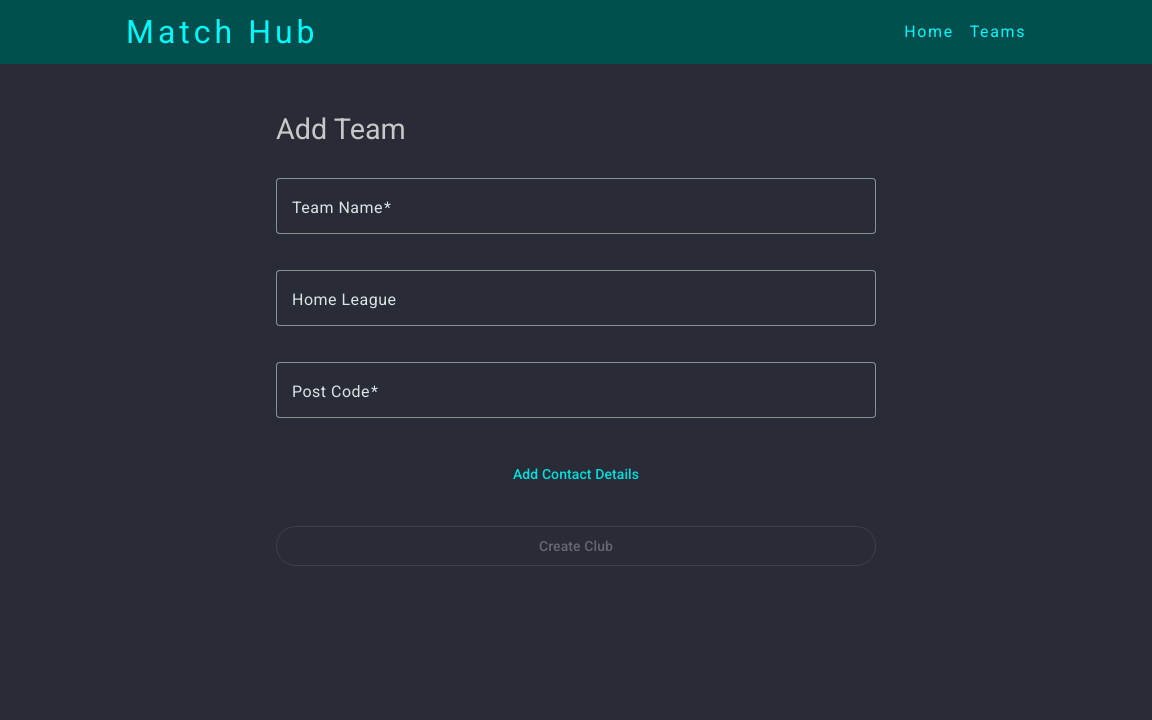
The form should validate as expected › should validate postcode missing correctly
Type "Binstead Reserves" into the element with class "data-input-name" at (576, 216), box [276,178,876,254]
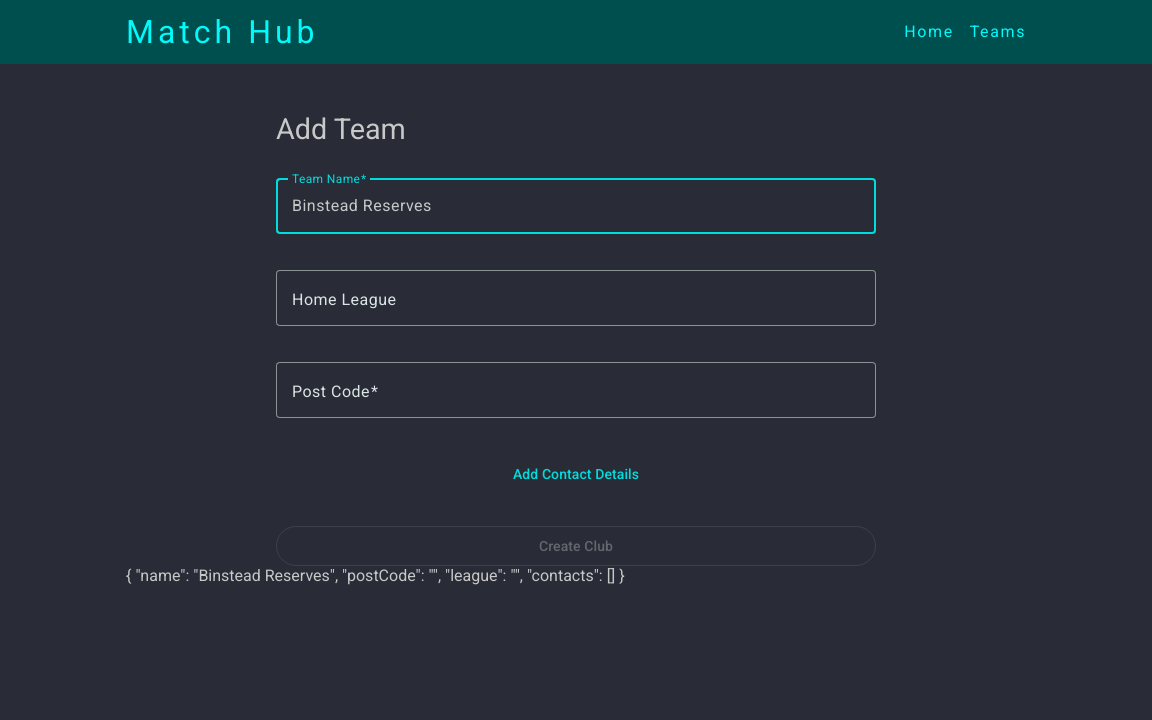
Focus the field labelled "Post Code" at (576, 390), box [292,378,860,402]
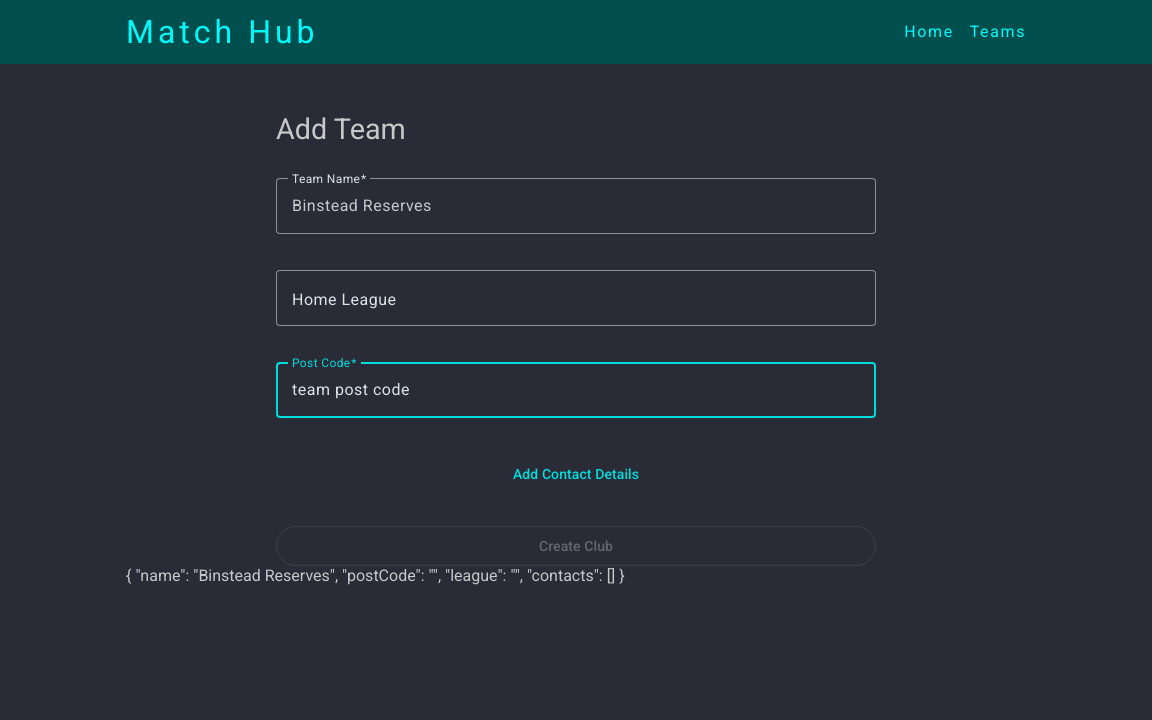
Focus the field labelled "Team Name" at (576, 206), box [292,194,860,218]
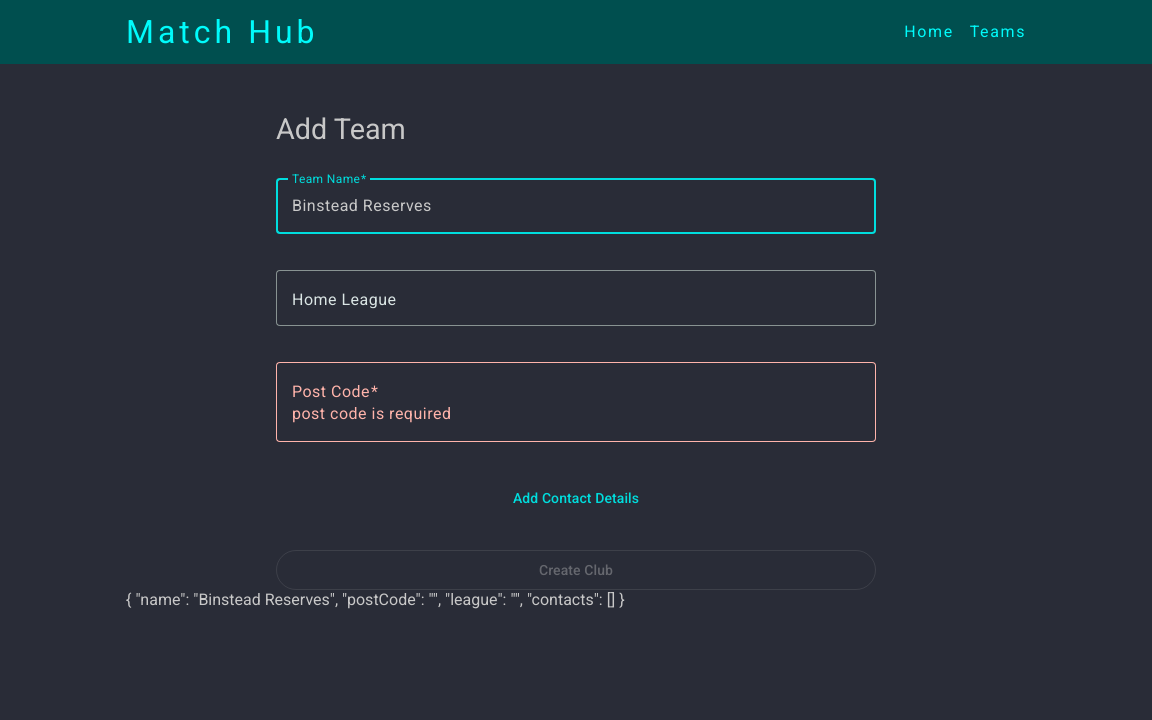
Expected: the button with class "data-submit" is disabled, [276,550,876,590]
Expected: the text "post code is required" is shown, [292,404,451,423]
